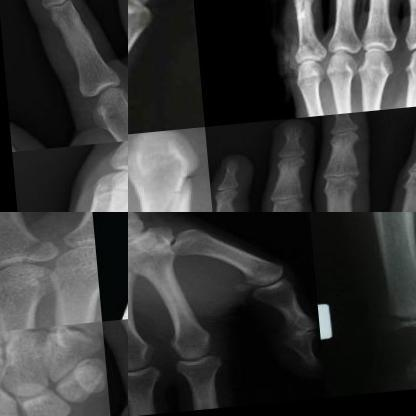fracture: (1, 230, 69, 271), (128, 176, 197, 211), (114, 139, 127, 158)
